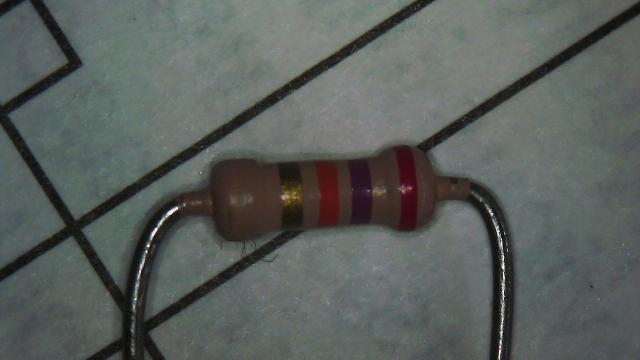gold: (282, 161, 302, 232)
orange: (318, 162, 338, 223)
red: (400, 148, 417, 228)
resistor: (191, 132, 461, 262)
violet: (348, 160, 372, 225)
